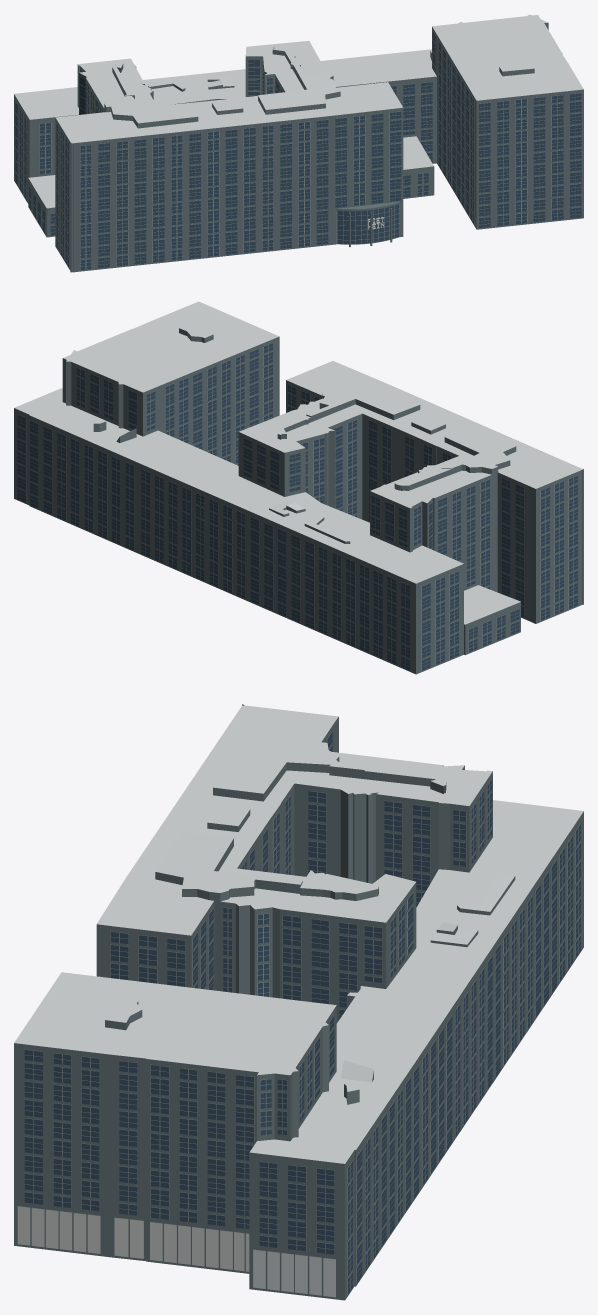
The model's file is vriesseveem-9.glb.
3 renders of one model, top to bottom at view 1: azimuth 30°, elevation 25°; view 2: azimuth 150°, elevation 25°; view 3: azimuth 270°, elevation 25°, orthographic. The views are drawn at different scales.
Parts seen in each view (by area): view 1: vriesseveem-9; view 2: vriesseveem-9; view 3: vriesseveem-9.
Part boxes in pixels (box(x1,y1,x2,y2)): vriesseveem-9: box(14, 14, 583, 272); vriesseveem-9: box(14, 301, 583, 674); vriesseveem-9: box(14, 703, 583, 1300).
Size of the model in its own units: 139 by 34.94 by 85.
